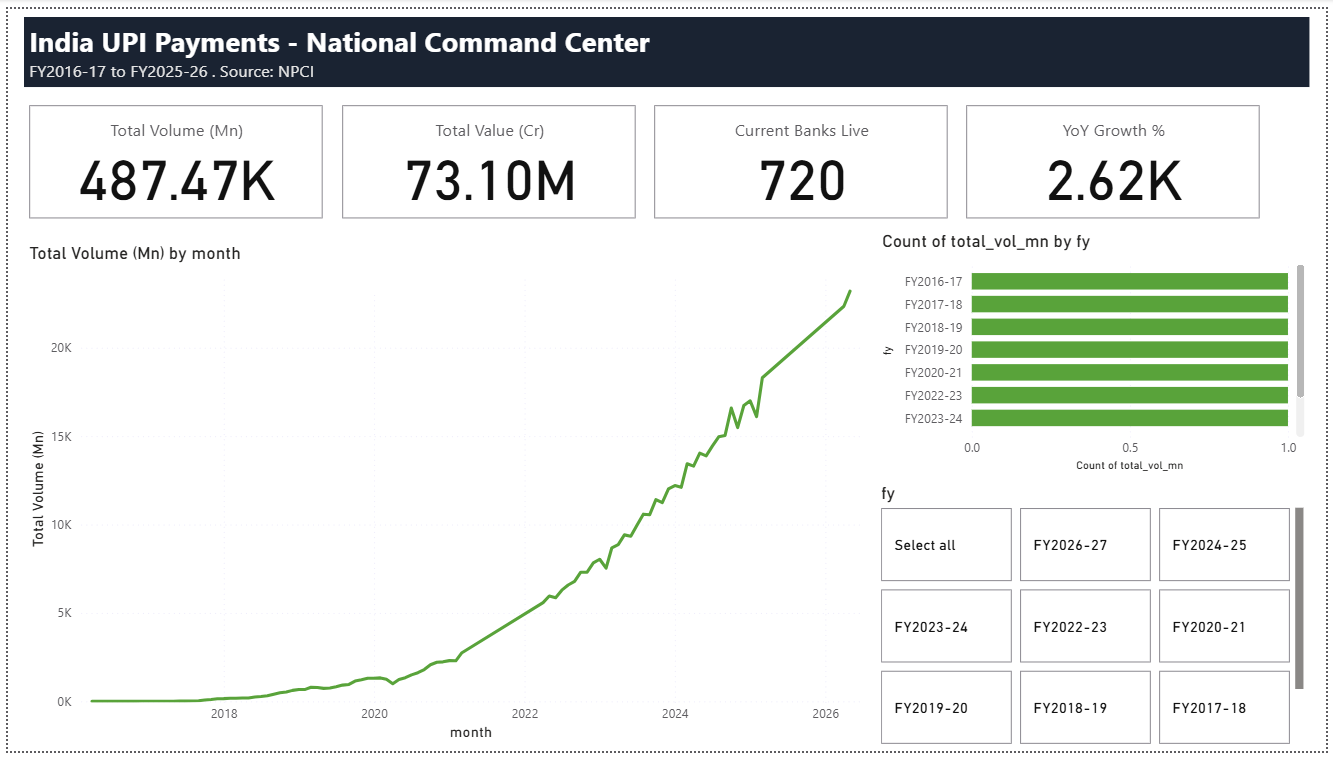

Layout of this report page (visuals, bound fields, positions):
{"tool":"powerbi","page":{"name":"Command Center","canvas":[1280,720],"ordinal":0},"visuals":[{"type":"lineChart","fields":{"Category":["upi_monthly.month"],"Y":["upi_monthly.Total Volume (Mn)"]},"box":[16,227,820,488],"z":0},{"type":"textbox","box":[319,208,124,68],"z":1000},{"type":"textbox","box":[16,8,1248,68],"z":2000},{"type":"cardVisual","fields":{"Data":["upi_monthly.Total Value (Cr)"]},"box":[319,88,295,120],"z":3000},{"type":"cardVisual","fields":{"Data":["upi_monthly.Total Volume (Mn)"]},"box":[16,88,295,120],"z":4000},{"type":"cardVisual","fields":{"Data":["upi_monthly.Current Banks Live"]},"box":[622,88,295,120],"z":5000},{"type":"cardVisual","fields":{"Data":["upi_monthly.YoY Growth %"]},"box":[925,88,295,120],"z":6000},{"type":"barChart","fields":{"Category":["v_fy_summary.fy"],"Y":["Count(v_fy_summary.total_vol_mn)"]},"box":[844,216,420,238],"z":7000},{"type":"advancedSlicerVisual","fields":{"Values":["v_fy_summary.fy"]},"box":[842.7,460.2,420.4,260.2],"z":8000}]}

Visuals, with their boxes in screenshot pixels (x1, y1, x2, y2), scaled from the page's 1280x720 canvas onto the 1333x757 screenshot:
lineChart - upi_monthly.month x upi_monthly.Total Volume (Mn): 17 239 871 752
textbox: 332 219 461 290
textbox: 17 8 1316 80
cardVisual - upi_monthly.Total Value (Cr): 332 93 639 219
cardVisual - upi_monthly.Total Volume (Mn): 17 93 324 219
cardVisual - upi_monthly.Current Banks Live: 648 93 955 219
cardVisual - upi_monthly.YoY Growth %: 963 93 1271 219
barChart - v_fy_summary.fy x Count(v_fy_summary.total_vol_mn): 879 227 1316 477
advancedSlicerVisual - v_fy_summary.fy: 878 484 1315 756
